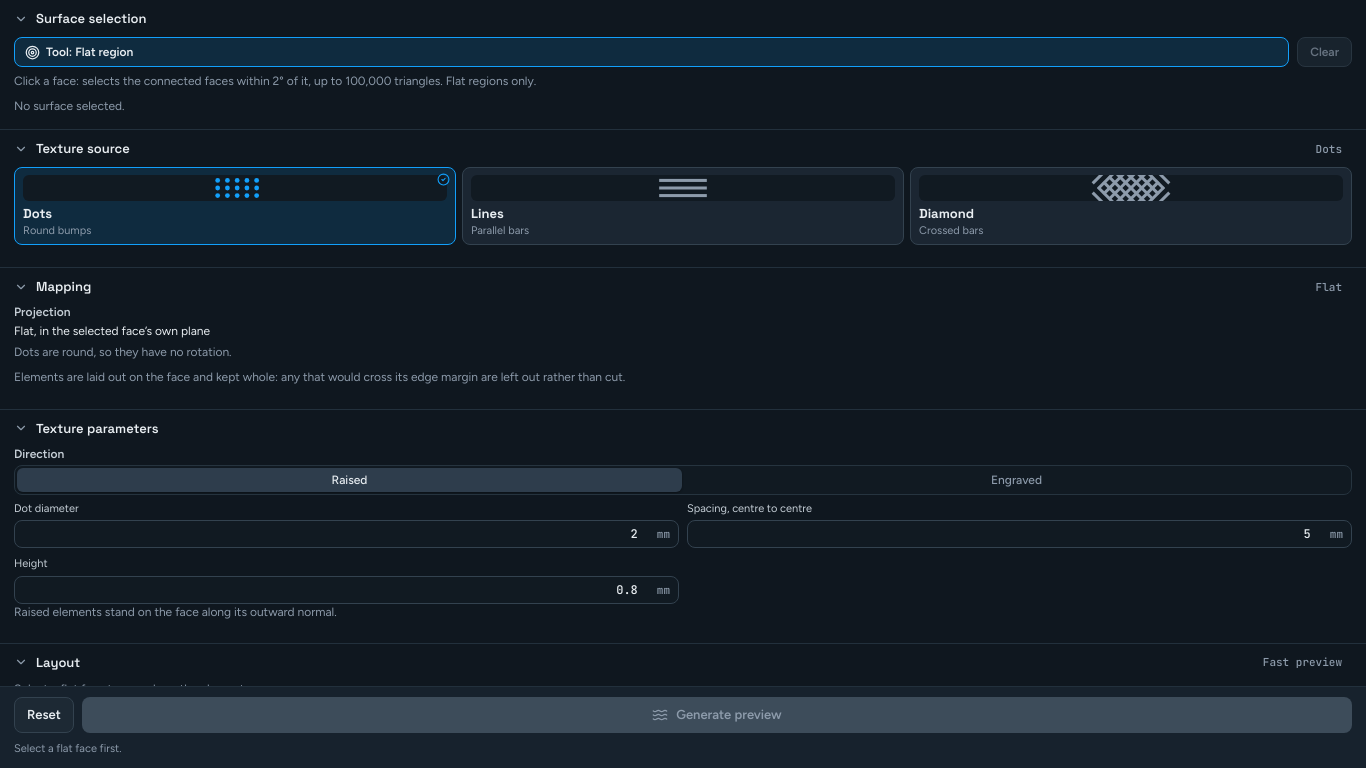
texture source, mapping and parameters › labels height or depth by direction, in millimetres
The width and height of the screenshot is (1366, 768).
Expected: the number field named "Height, millimetres" is shown, 23,576 -> 653,602
Click the button with test id "texture-engraved" at (1016, 480), box 684,468 -> 1349,492
(page scrolled)
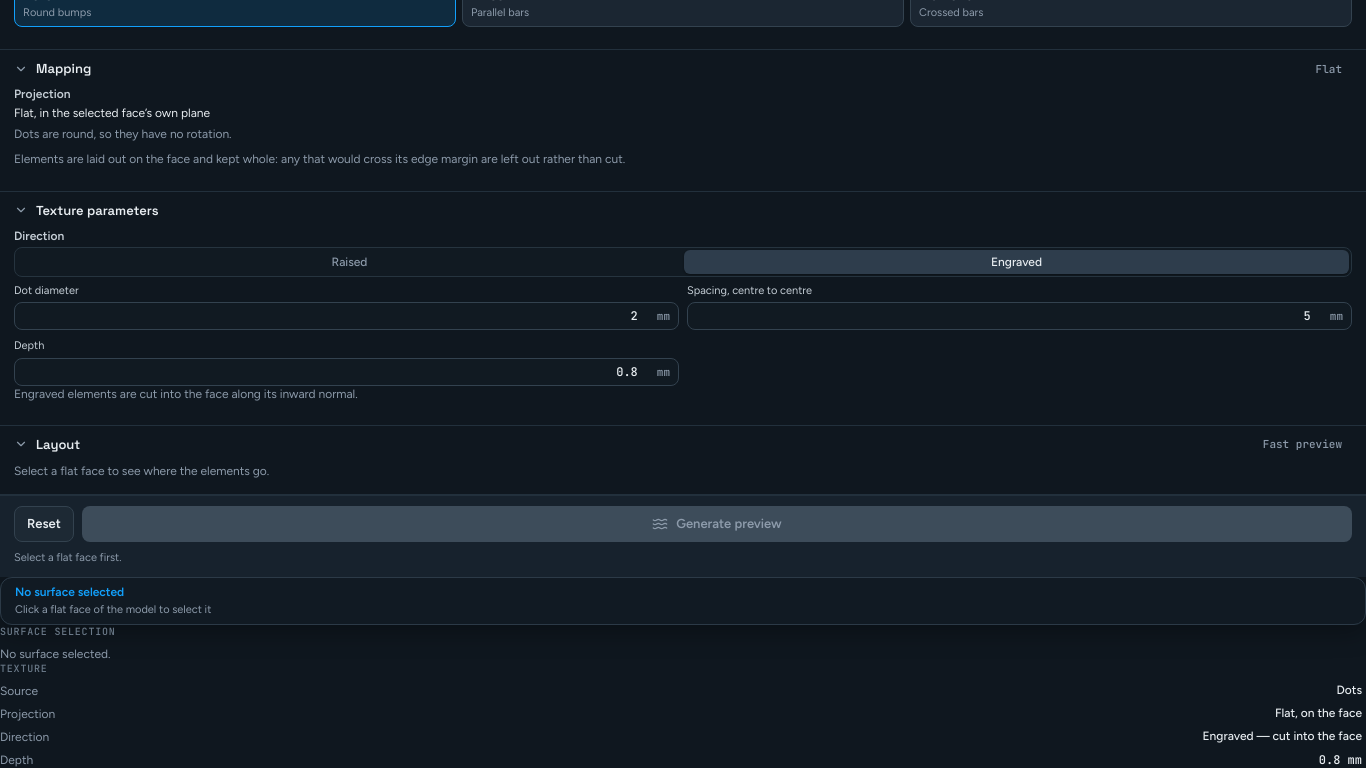
Result: the number field named "Depth, millimetres" is shown at 23,358 -> 653,384
Result: the text with test id "texture-inspector-direction" shows "Engraved" at 1202,729 -> 1362,743
